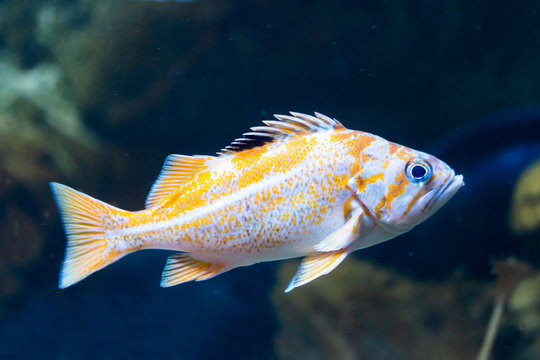Rock Fish: (32, 133, 483, 328)
